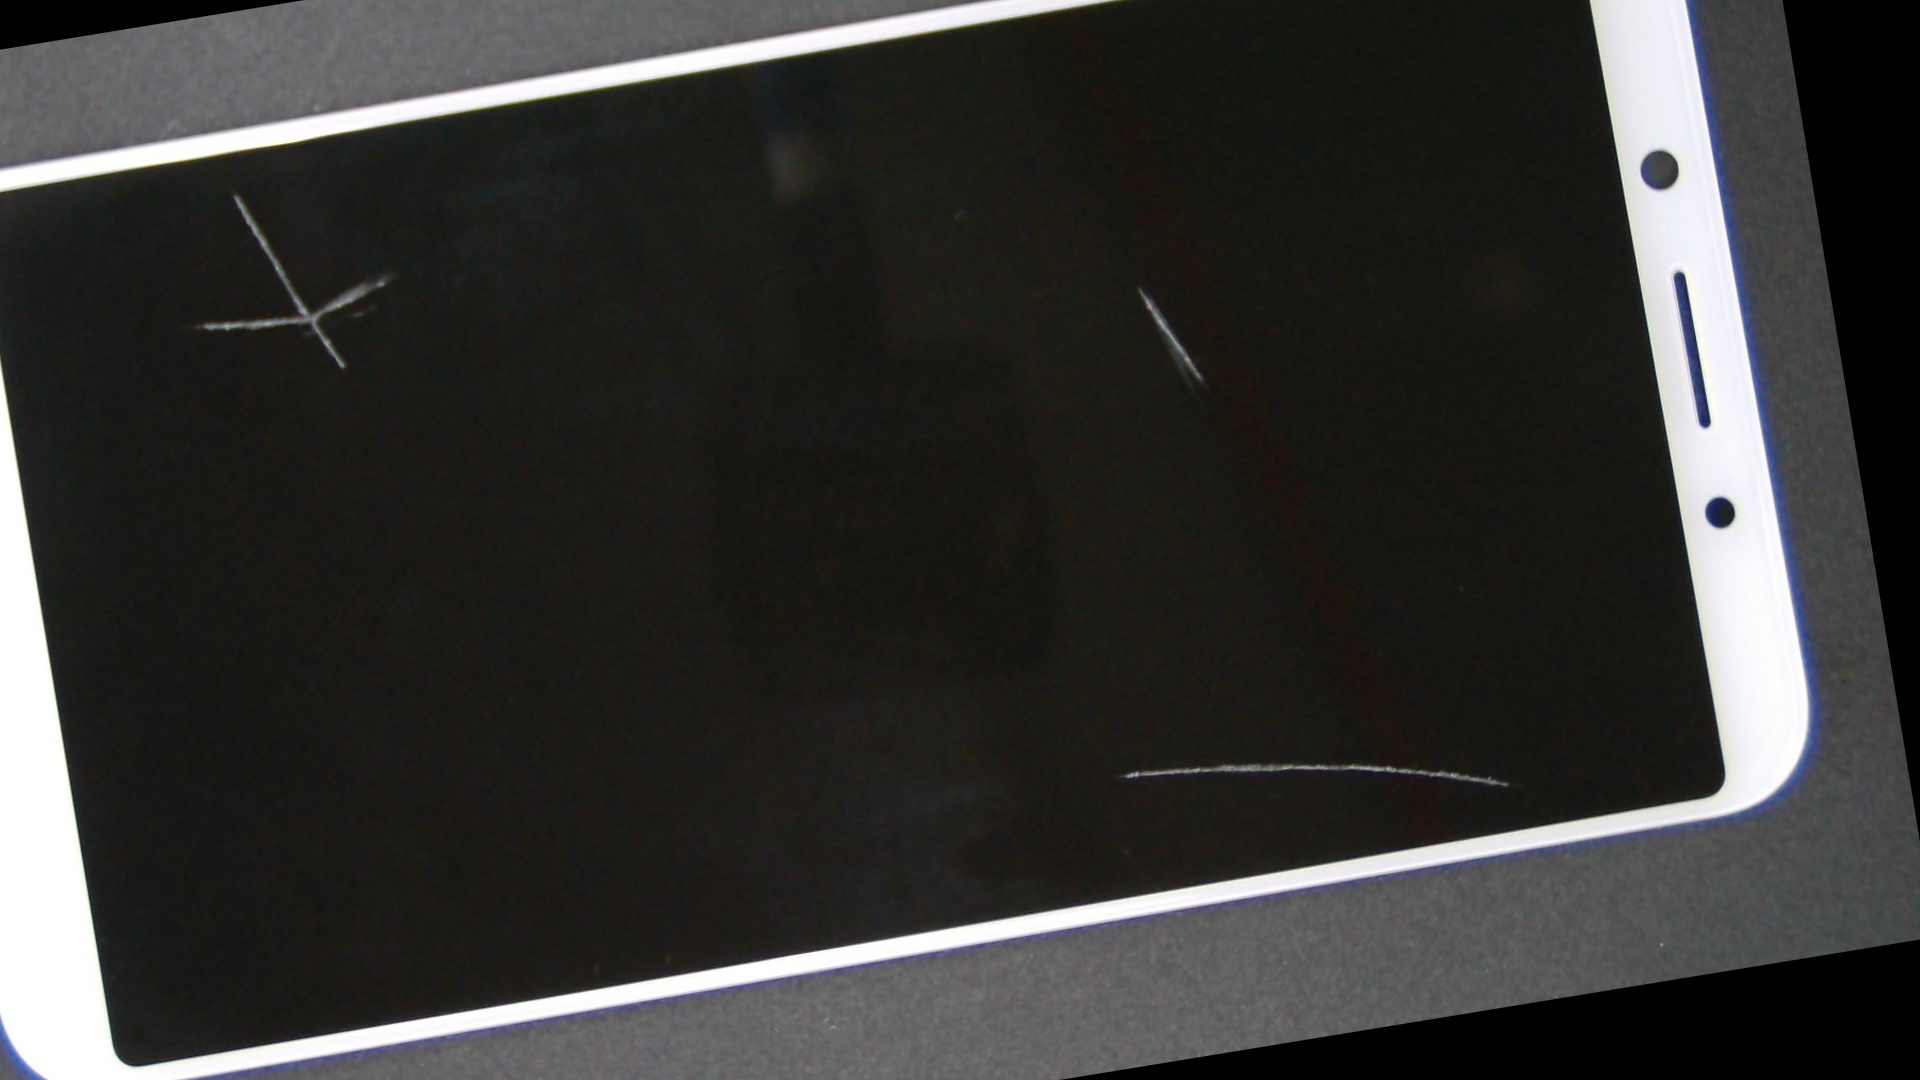oil: (469, 235, 1764, 1080), (475, 0, 1804, 595), (24, 70, 450, 313)
